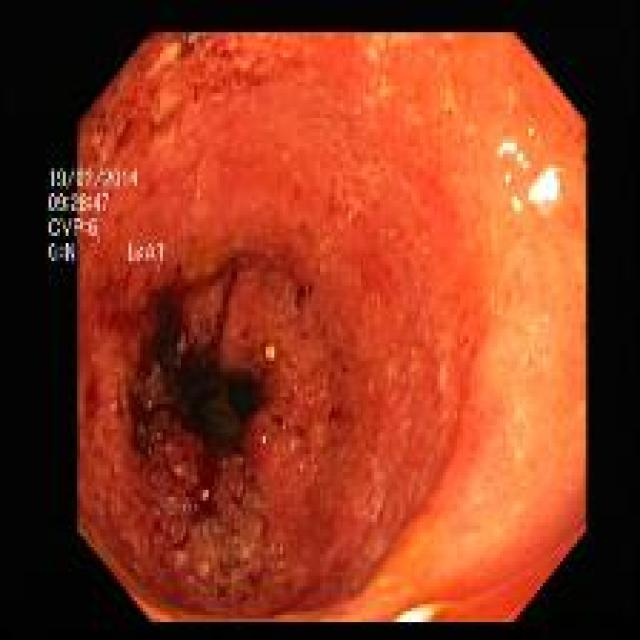ulcerative-colitis: (72, 33, 585, 622)
